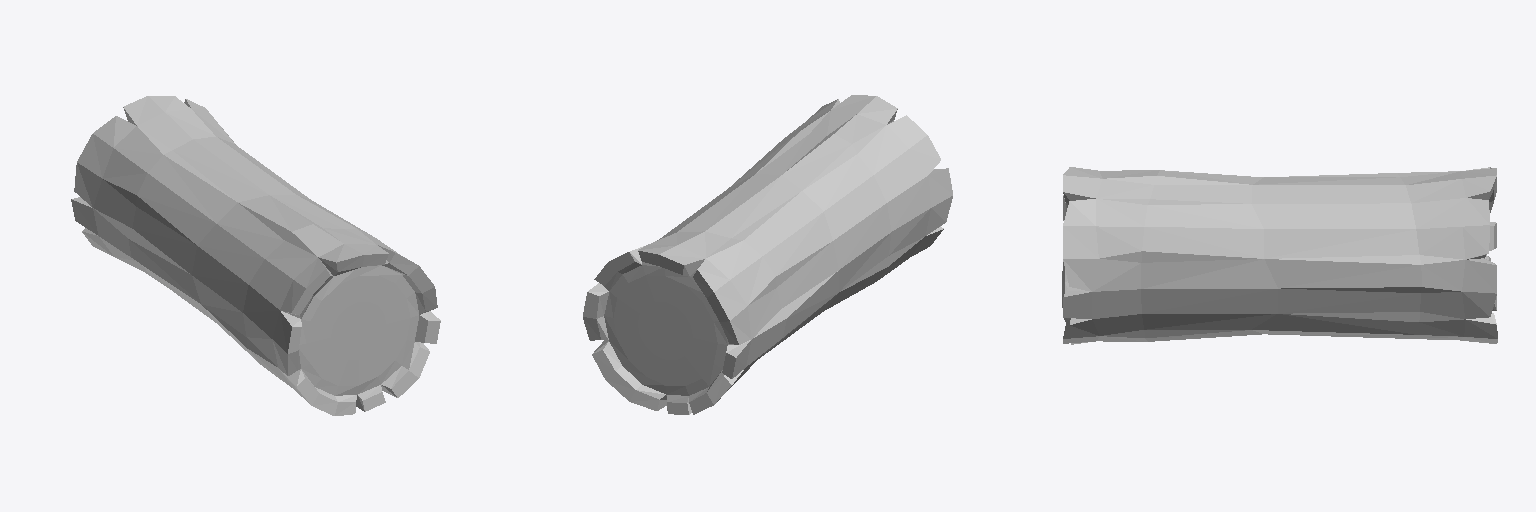
File: Wood_Log_B.obj
The picture shows the model from 3 angles: view 1: azimuth 30°, elevation 25°; view 2: azimuth 150°, elevation 25°; view 3: azimuth 270°, elevation 25°; orthographic projection.
Visible parts, largest first — view 1: Wood_Log_B; view 2: Wood_Log_B; view 3: Wood_Log_B.
Part boxes in pixels (x1,y1,x2,y2): Wood_Log_B: (71, 96, 440, 415); Wood_Log_B: (583, 95, 952, 414); Wood_Log_B: (1062, 167, 1497, 344).
Bounding box in the file's own units: 0.549 × 0.5506 × 1.35.